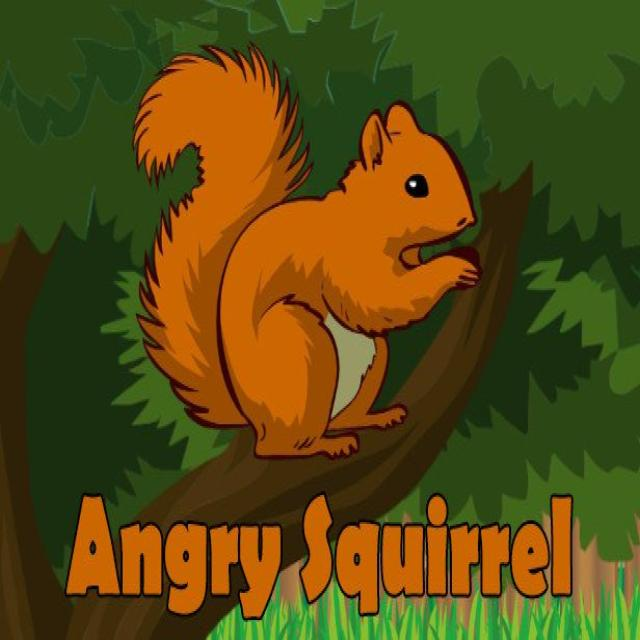Squirrel: (129, 35, 479, 473)
